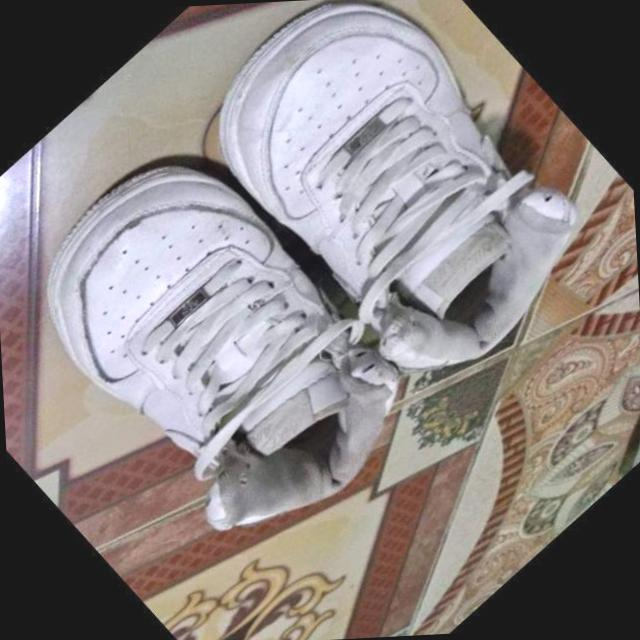nike_fake_airforce: (0, 105, 449, 587), (165, 0, 620, 422)
